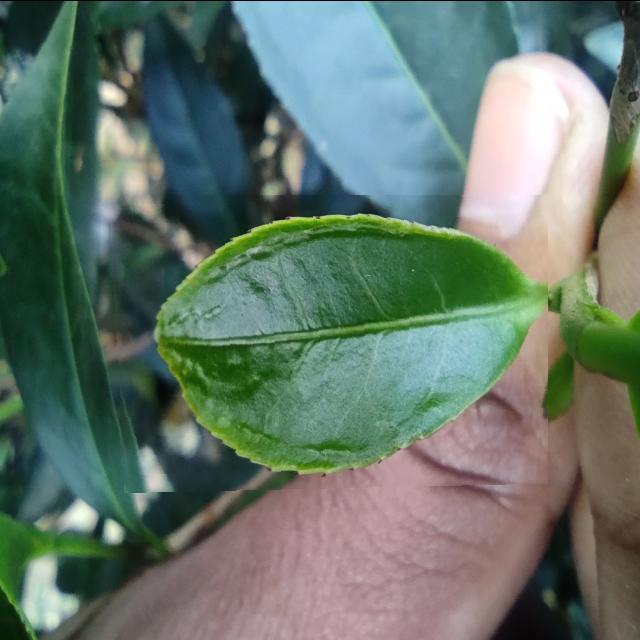Category C(4-7 days): (109, 194, 548, 492)
